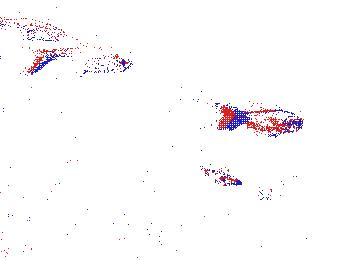X-ray fish: (249, 174, 331, 220)
red belly glassfish: (198, 163, 243, 188)
redtail glassfish: (22, 45, 133, 79), (220, 101, 302, 139), (1, 9, 70, 45)
